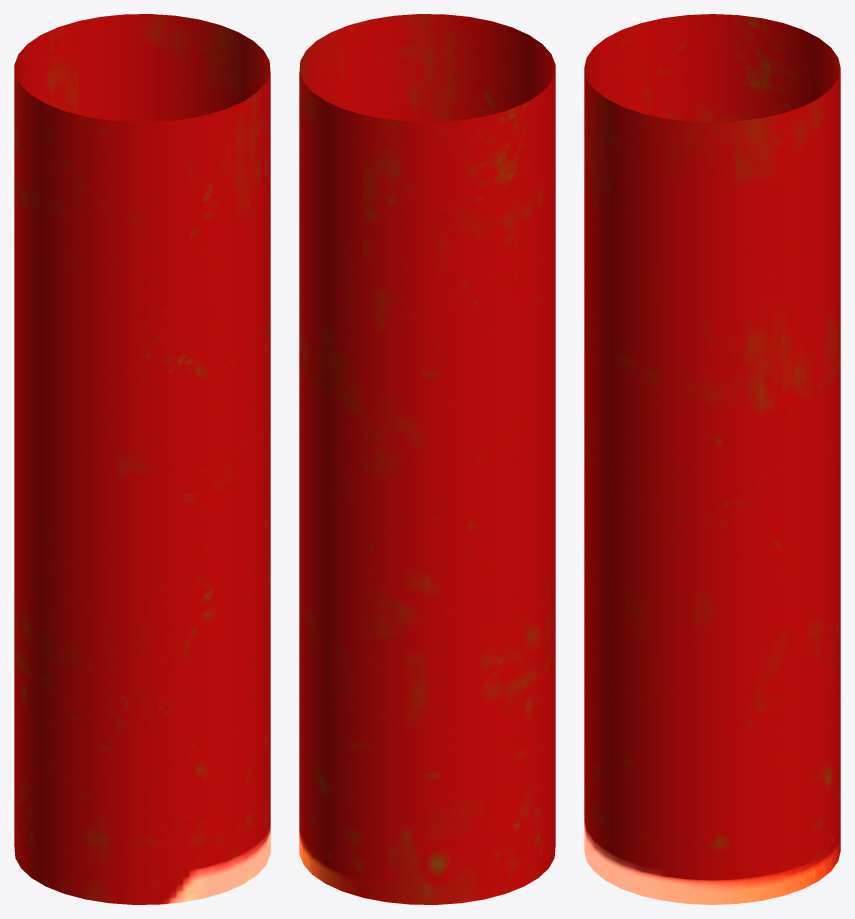
File: SM_PlasticPipe_straight_02.fbx
The picture shows the model from 3 angles, left to right: view 1: azimuth 30°, elevation 25°; view 2: azimuth 150°, elevation 25°; view 3: azimuth 270°, elevation 25°; orthographic projection.
Parts seen in each view (by area): view 1: SM_PlasticPipe_straight_02_LOD0; view 2: SM_PlasticPipe_straight_02_LOD0; view 3: SM_PlasticPipe_straight_02_LOD0.
Boxes of the visible parts, x1=… form: SM_PlasticPipe_straight_02_LOD0: x1=14, y1=14, x2=270, y2=904; SM_PlasticPipe_straight_02_LOD0: x1=299, y1=14, x2=555, y2=904; SM_PlasticPipe_straight_02_LOD0: x1=584, y1=14, x2=840, y2=904.
Bounding box in the file's own units: 14.85 × 14.85 × 50.
